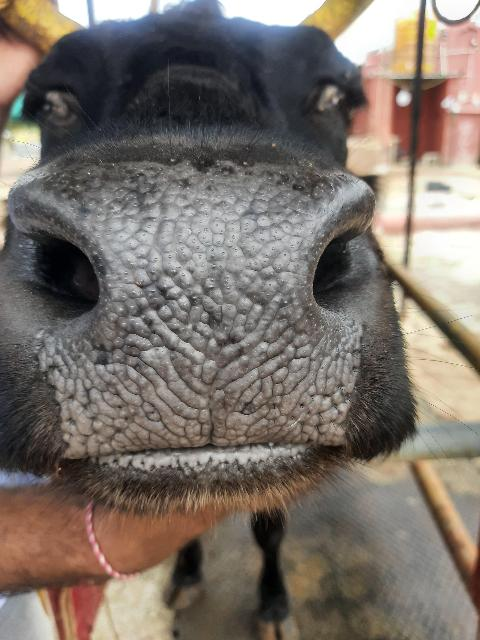Muzzle: (92, 190, 310, 448)
